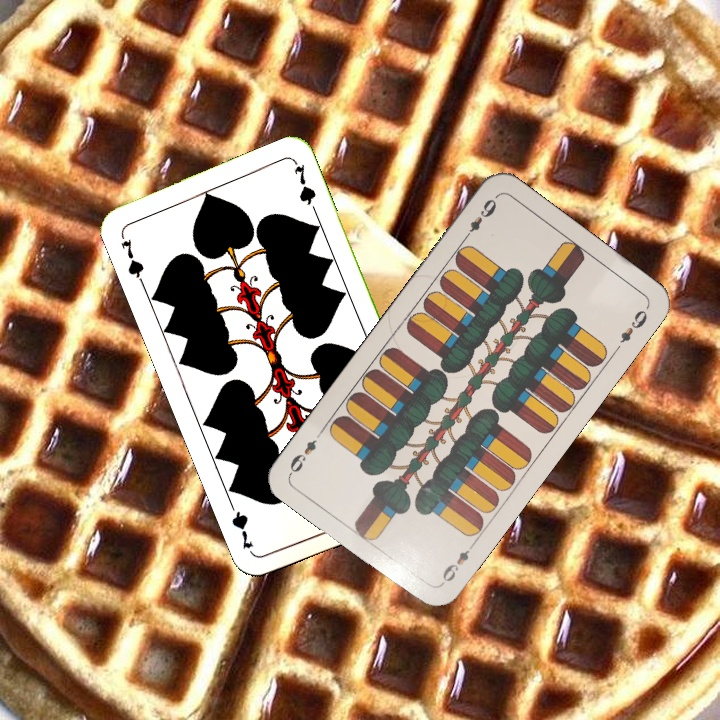E9: (459, 192, 500, 243), (436, 538, 477, 588)
G7: (116, 235, 147, 286)
